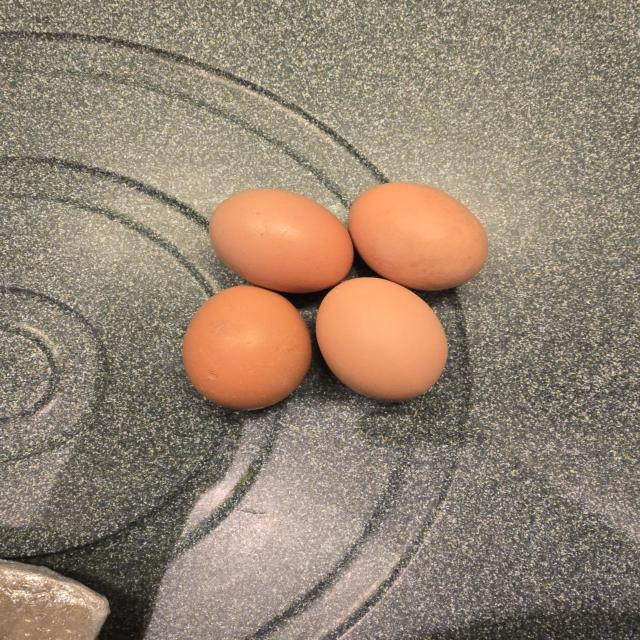Egg: (183, 285, 311, 410), (316, 278, 447, 400), (348, 183, 488, 290), (209, 189, 353, 293)
